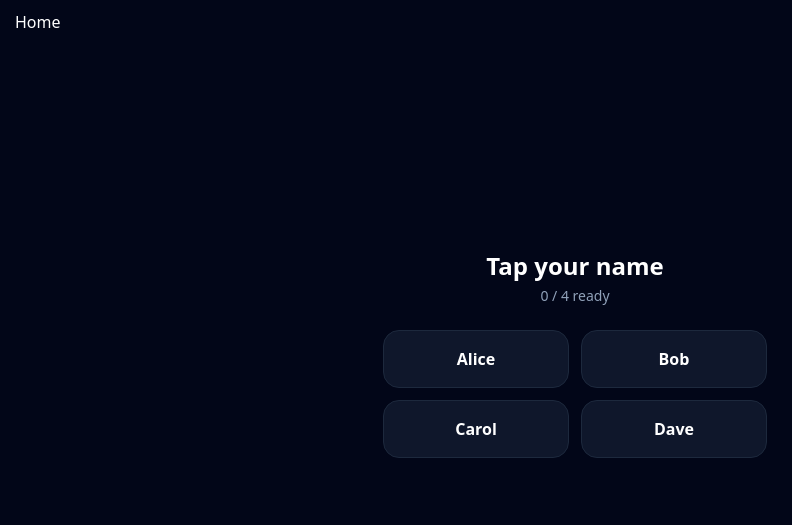
Game Play Page › imposter player sees IMPOSTER on reveal
Click the button "Alice".
click(476, 359)  # box x1=383 y1=330 x2=569 y2=388
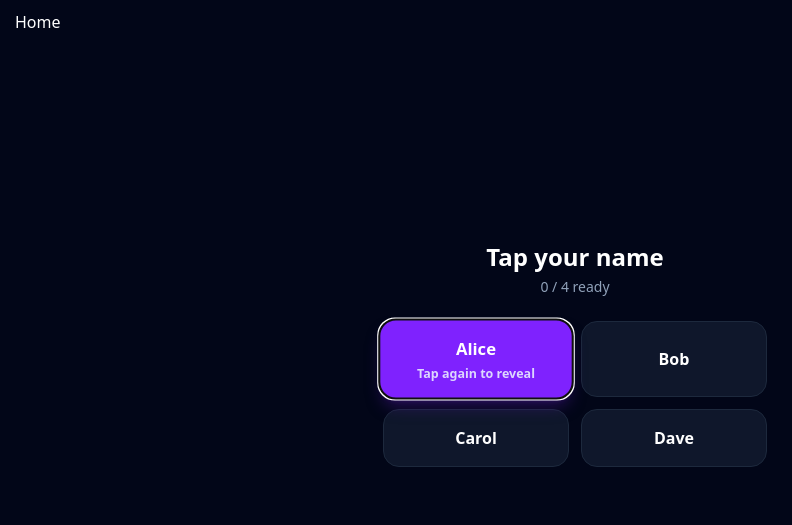
Click the button "Alice Tap again to reveal".
click(476, 359)  # box x1=379 y1=320 x2=573 y2=398
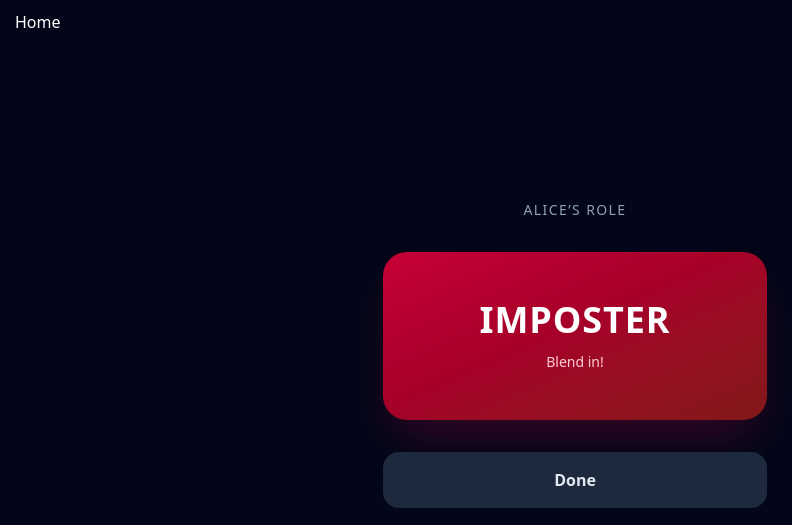
Now the text "IMPOSTER" is shown, box x1=480 y1=300 x2=670 y2=340
